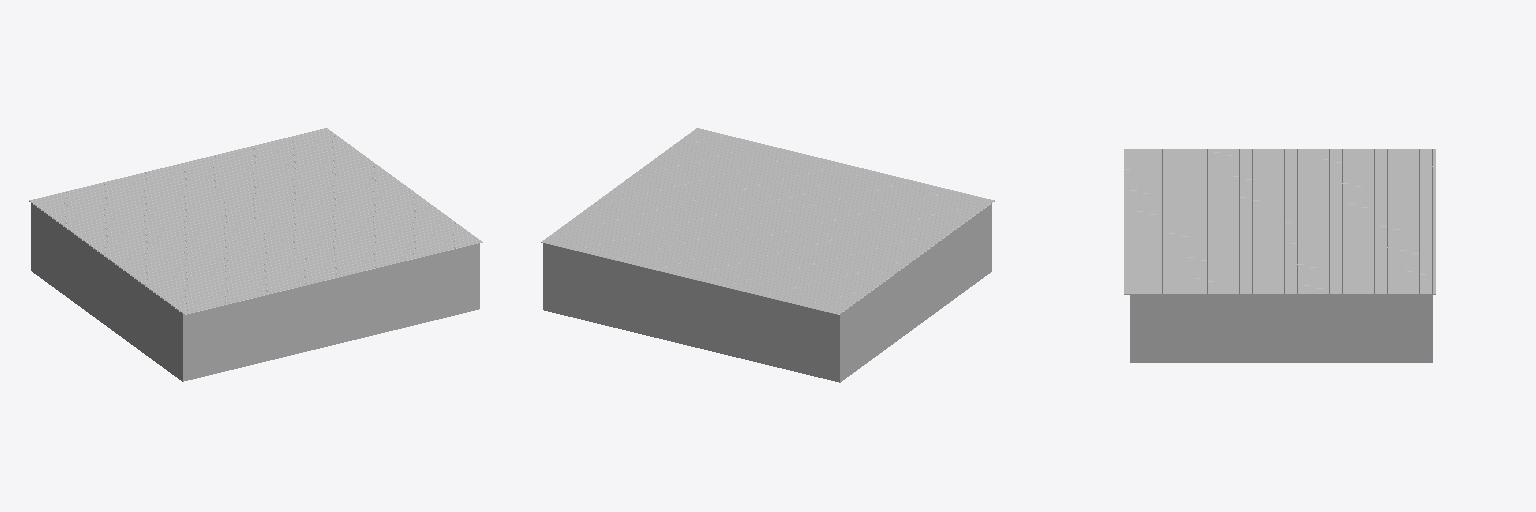
File: wooden_floor.obj
3 views of the same model, side by side, from view 1: azimuth 30°, elevation 25°; view 2: azimuth 150°, elevation 25°; view 3: azimuth 270°, elevation 25° (orthographic).
Visible parts, largest first — view 1: Cube, Plane001, Plane001.001; view 2: Cube, Plane001, Plane001.001; view 3: Plane001.001, Plane001, Cube.
Boxes of the visible parts, x1=… form: Cube: x1=31, y1=203, x2=479, y2=381; Plane001: x1=29, y1=164, x2=333, y2=314; Plane001.001: x1=178, y1=128, x2=482, y2=278; Cube: x1=543, y1=204, x2=991, y2=382; Plane001: x1=689, y1=164, x2=994, y2=314; Plane001.001: x1=541, y1=128, x2=845, y2=278; Plane001.001: x1=1124, y1=221, x2=1435, y2=294; Plane001: x1=1124, y1=149, x2=1435, y2=221; Cube: x1=1130, y1=295, x2=1432, y2=362.
Size of the model in its own units: 4.76 by 1.06 by 4.32.